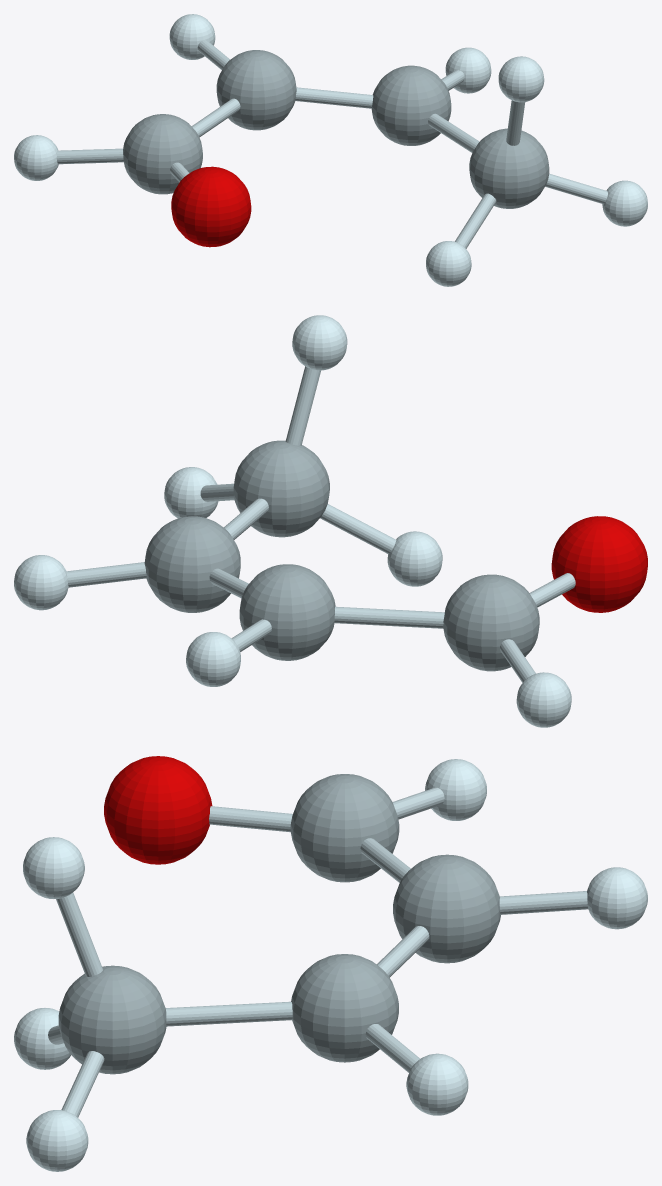
Rendered from irc_022.glb.
3 views of the same model, one above another, from view 1: azimuth 30°, elevation 25°; view 2: azimuth 150°, elevation 25°; view 3: azimuth 270°, elevation 25° (orthographic). The views are drawn at different scales.
Parts seen in each view (by area): view 1: Renderer Node; view 2: Renderer Node; view 3: Renderer Node.
Part boxes in pixels (left/top/right/bottom): Renderer Node: left=14, top=14, right=647, bottom=286; Renderer Node: left=14, top=315, right=647, bottom=727; Renderer Node: left=14, top=756, right=647, bottom=1171.
Bounding box in the file's own units: 4.82 × 1.97 × 4.08.
